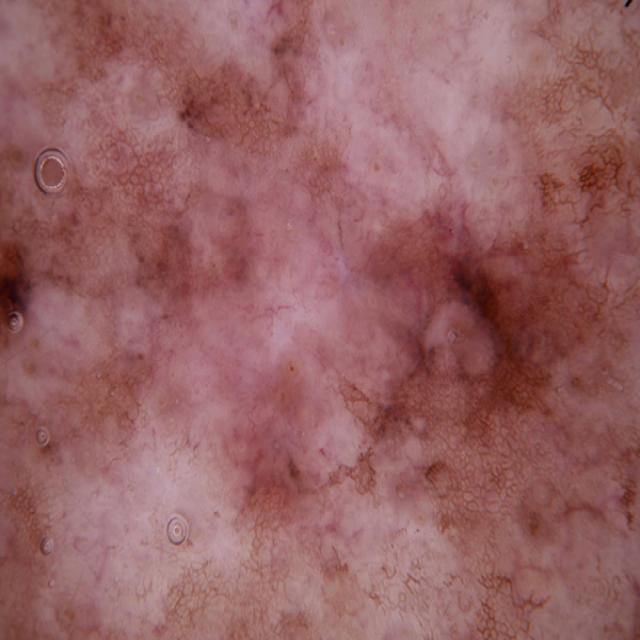MEL: (2, 0, 626, 587)
